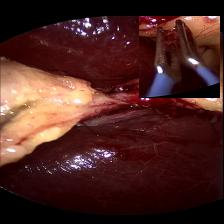Bipolar: (139, 15, 220, 97)
